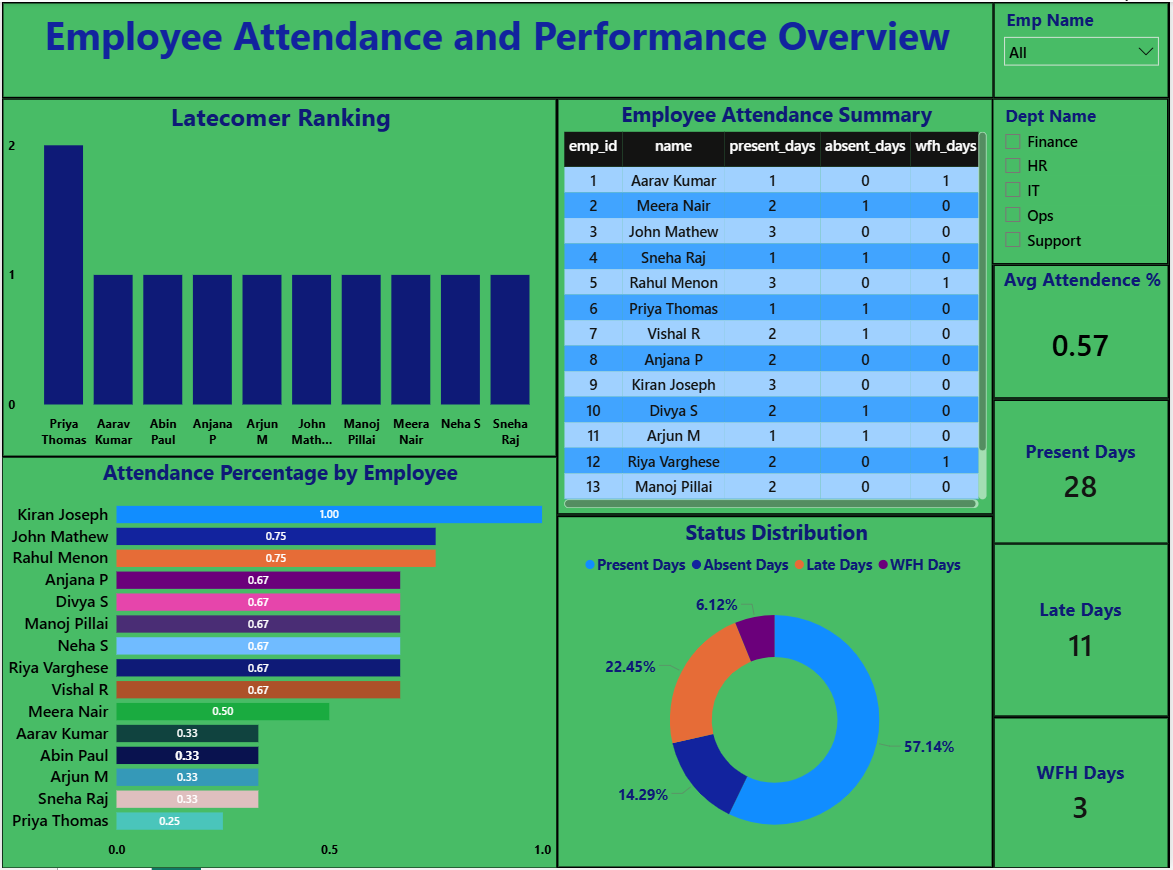

What the dashboard file says about the page in this screenshot:
{"tool":"powerbi","page":{"name":"Page 1","canvas":[1281,950],"ordinal":0},"visuals":[{"type":"tableEx","title":"Employee Attendance Summary","fields":{"Values":["attendance_system v_emp_attendance.emp_id","attendance_system v_emp_attendance.name","attendance_system v_emp_attendance.present_days","attendance_system v_emp_attendance.absent_days","attendance_system v_emp_attendance.wfh_days"]},"box":[608.8,105.6,478.6,456.6],"z":0},{"type":"barChart","title":"Attendance Percentage by Employee","fields":{"Category":["attendance_system employees.name"],"Y":["_Measures.Attendance %"],"Series":["attendance_system employees.name"]},"box":[0,499.1,608.8,451.1],"z":1000},{"type":"columnChart","title":"Latecomer Ranking","fields":{"Category":["attendance_system employees.name"],"Y":["_Measures.Late Days"]},"box":[0,105.6,608.8,393.5],"z":2000},{"type":"donutChart","title":"Status Distribution","fields":{"Y":["_Measures.Present Days","_Measures.Absent Days","_Measures.Late Days","_Measures.WFH Days"]},"box":[608.8,563.6,478.6,386.7],"z":3000},{"type":"cardVisual","title":"Avg Attendence %","fields":{"Data":["_Measures.Average Attendance %"]},"box":[1087.6,288.6,192.8,147.1],"z":5000},{"type":"cardVisual","fields":{"Data":["_Measures.Present Days"]},"box":[1087.6,435.6,192.8,158.1],"z":6000},{"type":"cardVisual","fields":{"Data":["_Measures.WFH Days"]},"box":[1087.6,783.8,192.8,166.5],"z":7000},{"type":"cardVisual","fields":{"Data":["_Measures.Late Days"]},"box":[1087.6,593.8,192.8,190.1],"z":8000},{"type":"slicer","fields":{"Values":["attendance_system departments.department_name"]},"box":[1086,105.6,193.3,182.4],"z":9000},{"type":"slicer","fields":{"Values":["attendance_system employees.name"]},"box":[1087.6,0,192.8,105.4],"z":10000},{"type":"textbox","title":"Employee Attendance and Performance Overview","box":[0,0,1087.6,105.4],"z":11000}]}

Visuals, with their boxes in screenshot pixels (x1, y1, x2, y2), scaled from the page's 1281x950 canvas onto the 1173x870 screenshot:
"Employee Attendance Summary" tableEx: (x1=557, y1=97, x2=996, y2=515)
"Attendance Percentage by Employee" barChart: (x1=0, y1=457, x2=557, y2=869)
"Latecomer Ranking" columnChart: (x1=0, y1=97, x2=557, y2=457)
"Status Distribution" donutChart: (x1=557, y1=516, x2=996, y2=869)
"Avg Attendence %" cardVisual: (x1=996, y1=264, x2=1172, y2=399)
cardVisual - _Measures.Present Days: (x1=996, y1=399, x2=1172, y2=544)
cardVisual - _Measures.WFH Days: (x1=996, y1=718, x2=1172, y2=869)
cardVisual - _Measures.Late Days: (x1=996, y1=544, x2=1172, y2=718)
slicer - attendance_system departments.department_name: (x1=994, y1=97, x2=1171, y2=264)
slicer - attendance_system employees.name: (x1=996, y1=0, x2=1172, y2=97)
"Employee Attendance and Performance Overview" textbox: (x1=0, y1=0, x2=996, y2=97)
